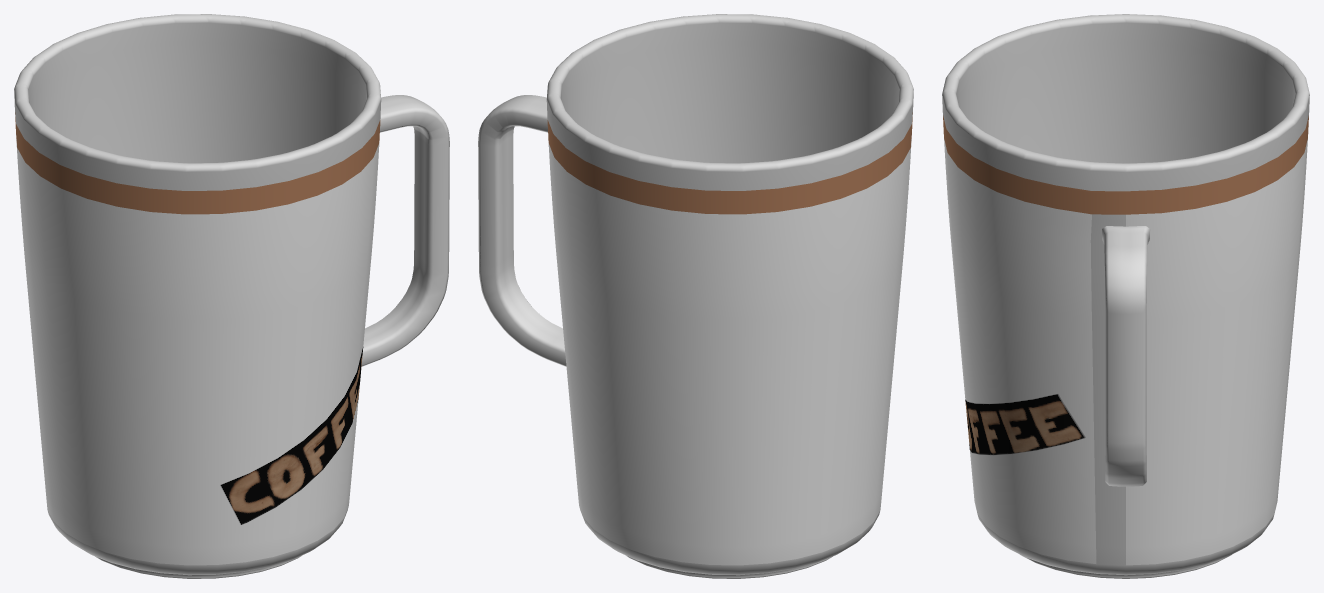
File: mug_1.glb
3 views of the same model, side by side, from view 1: azimuth 30°, elevation 25°; view 2: azimuth 150°, elevation 25°; view 3: azimuth 270°, elevation 25° (orthographic).
Parts seen in each view (by area): view 1: Cylinder.001; view 2: Cylinder.001; view 3: Cylinder.001.
Part boxes in pixels (x1,y1,x2,y2): Cylinder.001: [14, 14, 449, 578]; Cylinder.001: [478, 14, 913, 578]; Cylinder.001: [942, 14, 1309, 578].
Bounding box in the file's own units: 0.1015 × 0.1045 × 0.0799.
Materials: 3 (1 with a texture image).
